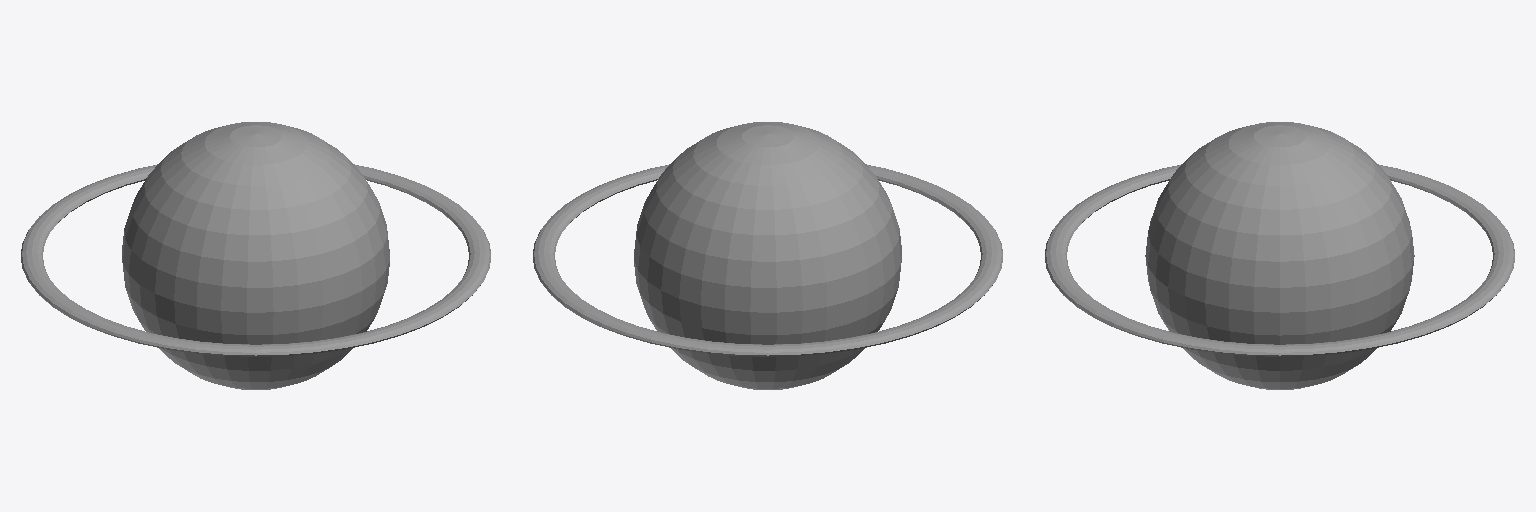
The model's file is Saturn.obj.
3 renders of one model, left to right at view 1: azimuth 30°, elevation 25°; view 2: azimuth 150°, elevation 25°; view 3: azimuth 270°, elevation 25°, orthographic.
Visible parts, largest first — view 1: Sphere; view 2: Sphere; view 3: Sphere.
Part boxes in pixels (x1,y1,x2,y2): Sphere: (21,122,490,389); Sphere: (533,122,1002,389); Sphere: (1045,122,1514,389).
Bounding box in the file's own units: 5.25 × 3 × 5.25.